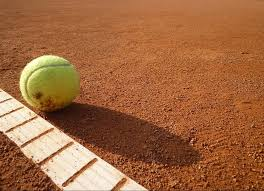tennis_ball: (19, 53, 81, 113)
